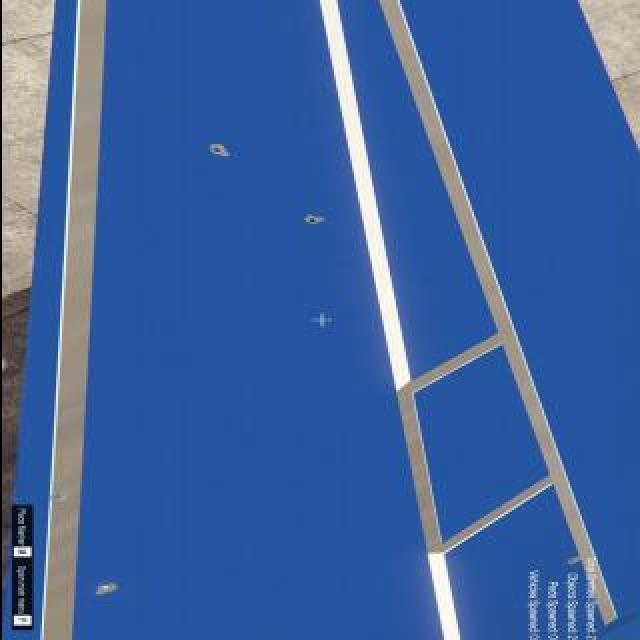crack: (204, 141, 232, 159), (93, 583, 123, 597), (298, 214, 326, 226)
